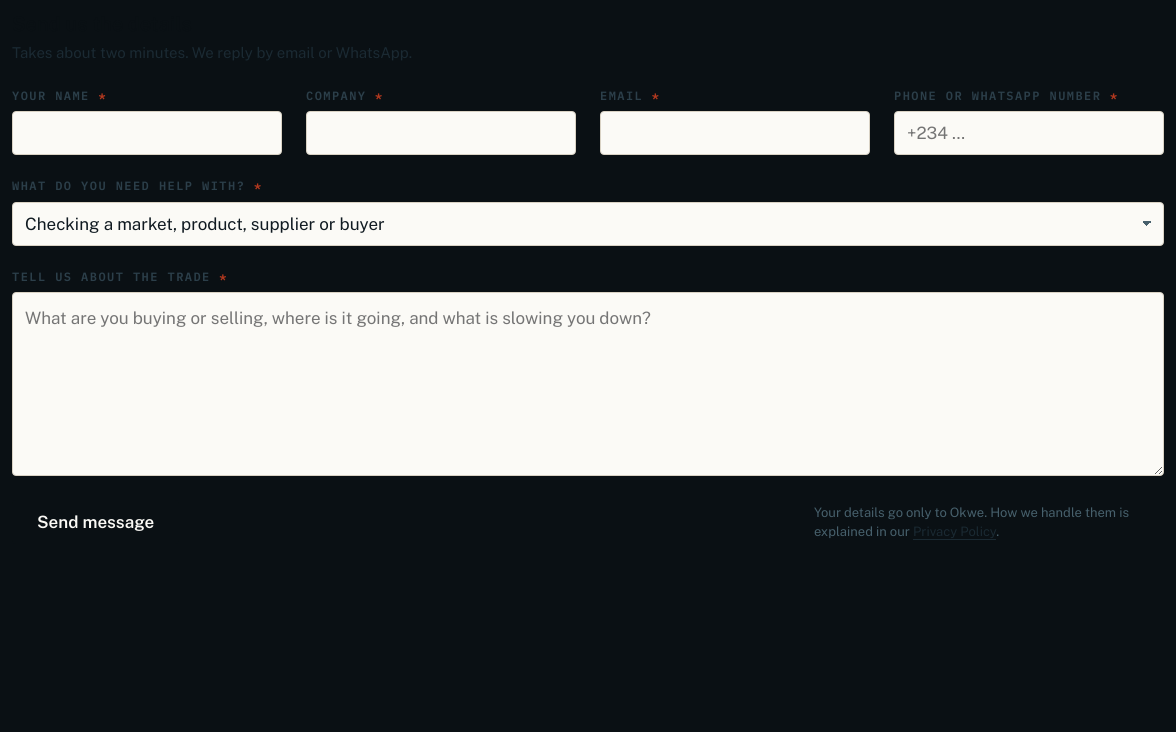
it: EnquiryForm › keeps the message and offers WhatsApp when the network fails
Type "Ada Okafor" into the field labelled "Your name *" at [147, 133], box 12,111 -> 282,155
Type "Okafor Traders" into the field labelled "Company *" at [441, 133], box 306,111 -> 576,155
Type "ada@example.com" into the field labelled "Email *" at [735, 133], box 600,111 -> 870,155
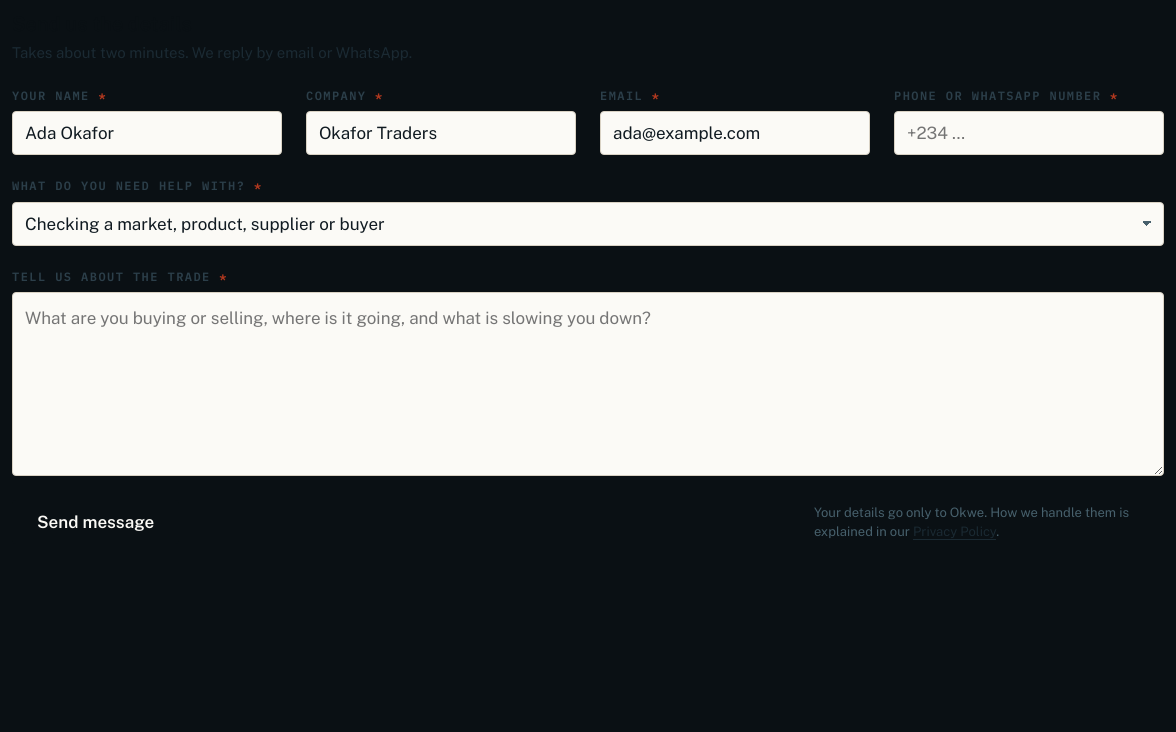
Type "+234 800 000 0000" into the field labelled "Phone or WhatsApp number *" at [1029, 133], box 894,111 -> 1164,155
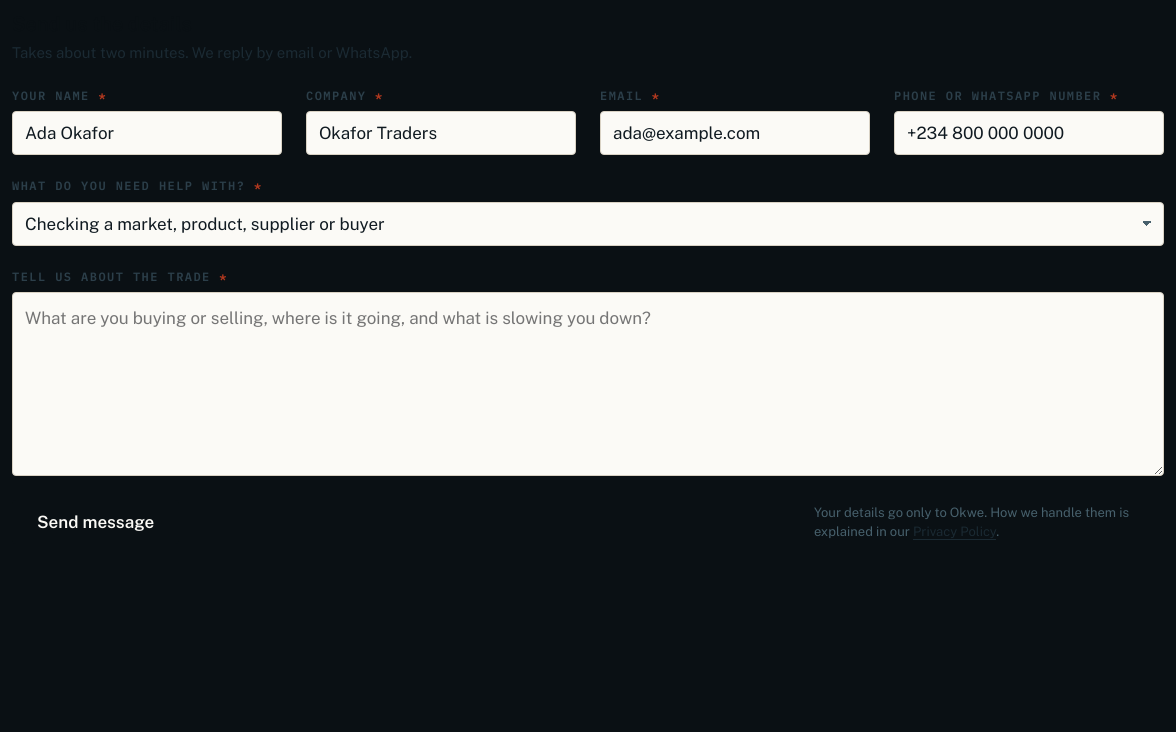
Select "Shipping, clearing and delivering goods" in the dropdown labelled "What do you need help with? *" at [588, 224], box 12,202 -> 1164,246
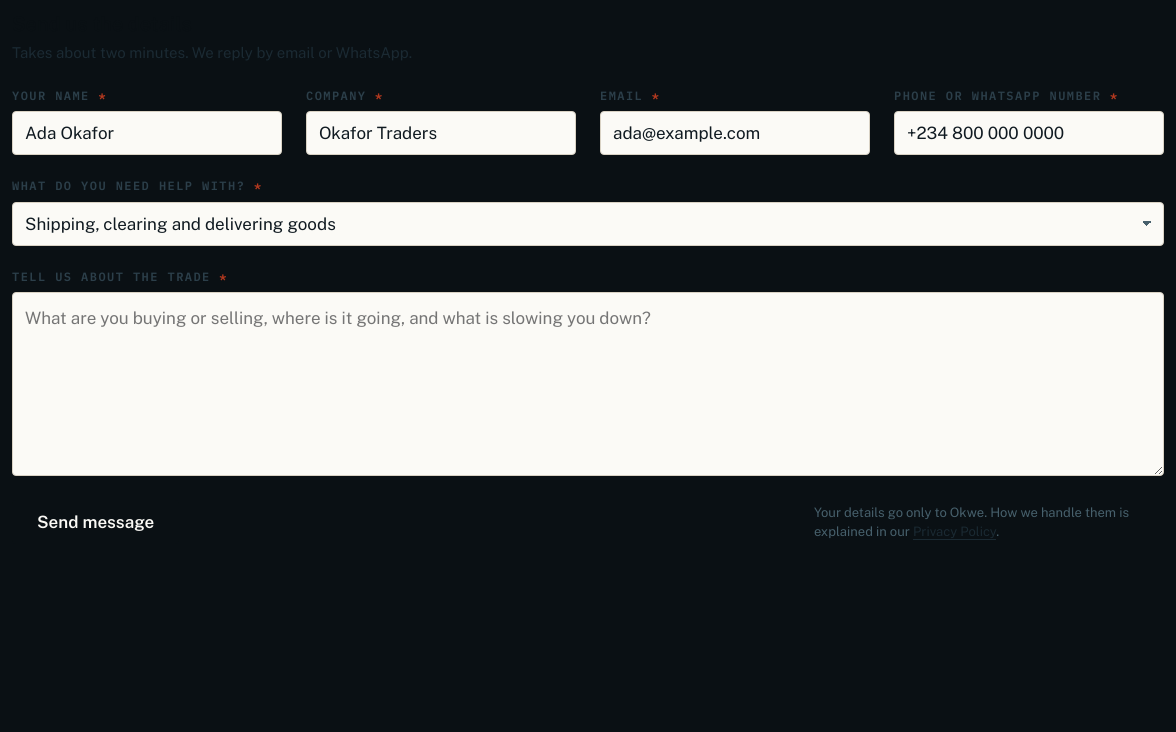
Replace the text in the text box labelled "Tell us about the trade *" with "Two containers of cashew to Rotterdam." at [588, 384], box 12,292 -> 1164,476
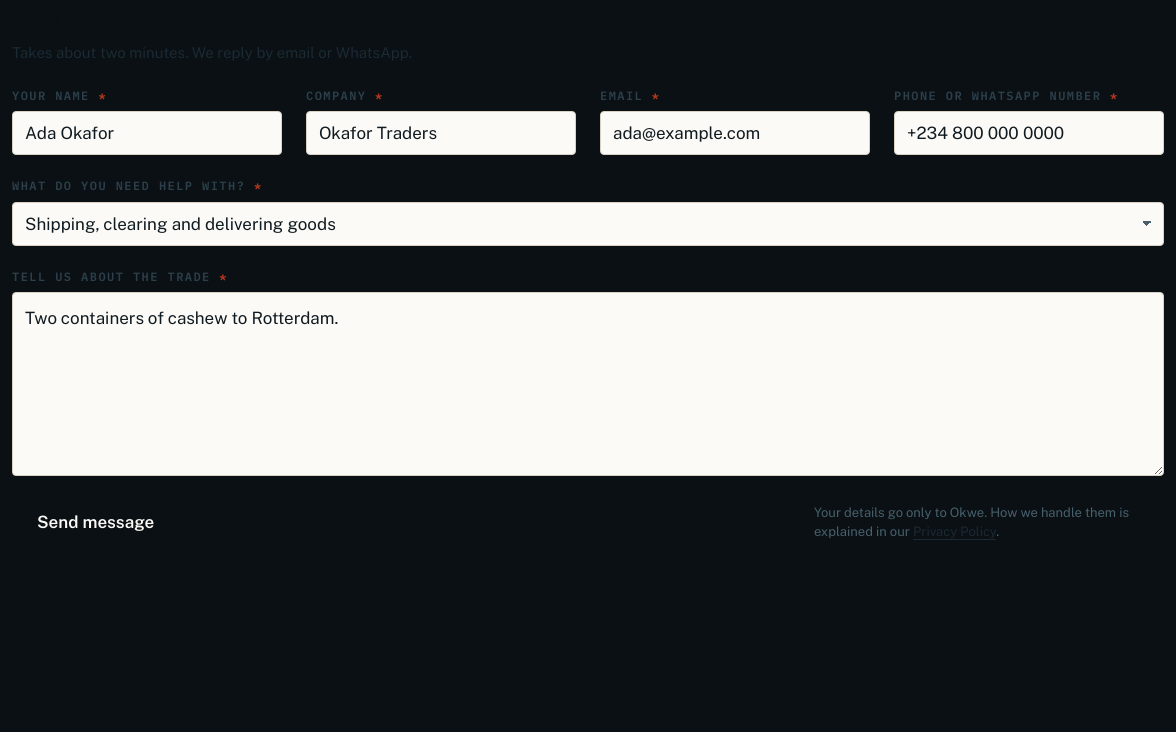
Submit the form named "Send message"
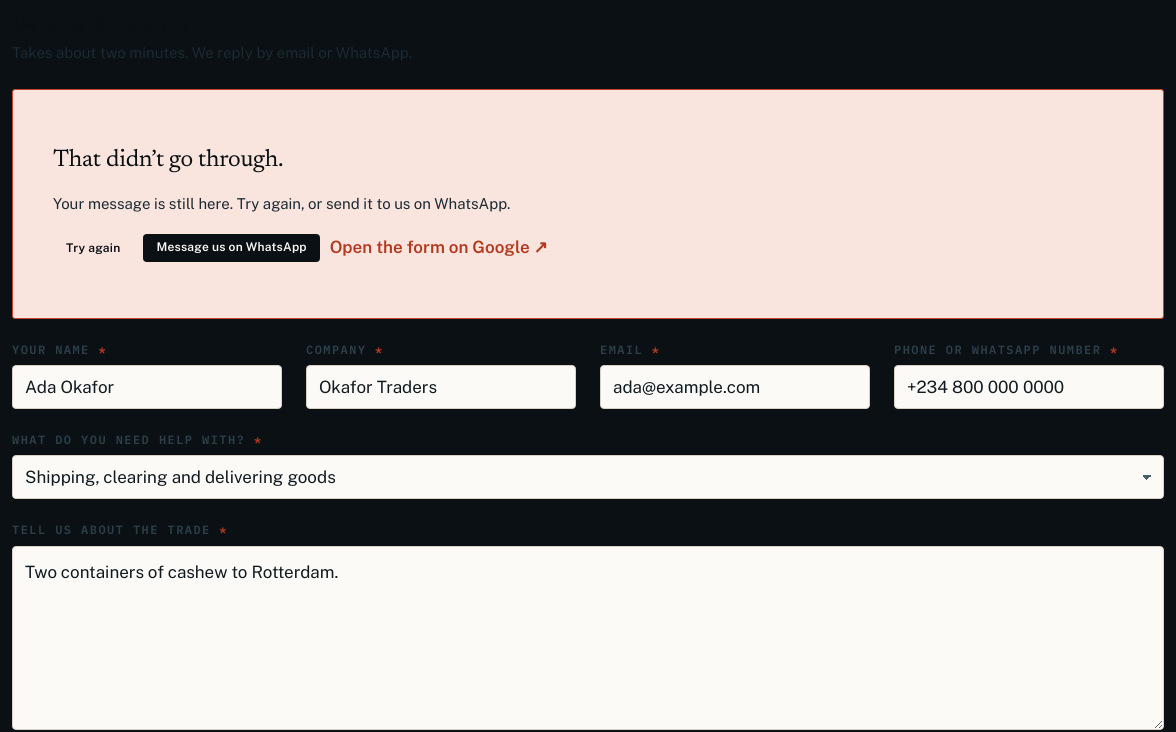
Expected: the message shows "That didn’t go through.", 53,148 -> 283,172
Click the button "Try again" at [93, 248], box 53,234 -> 133,262
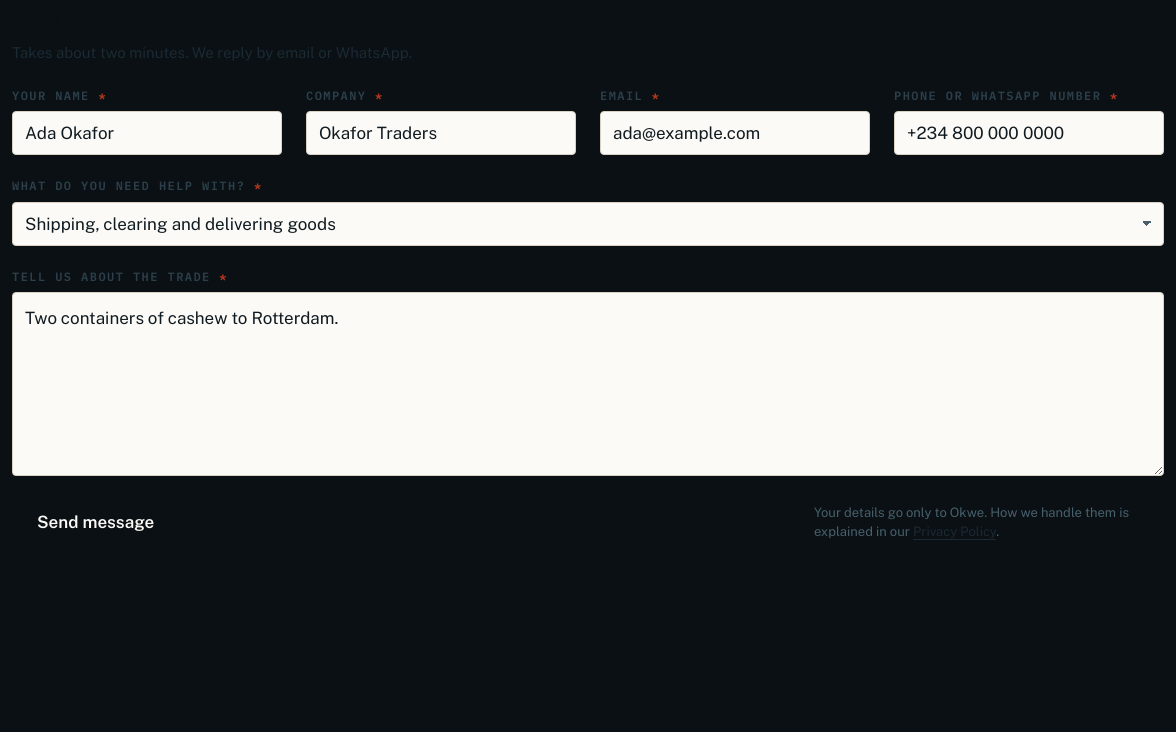
Expected: the button "Send message" is enabled, 12,500 -> 179,544
Expected: the message "That didn’t go through. Your message is still here. Try again, or send it to us" is gone
